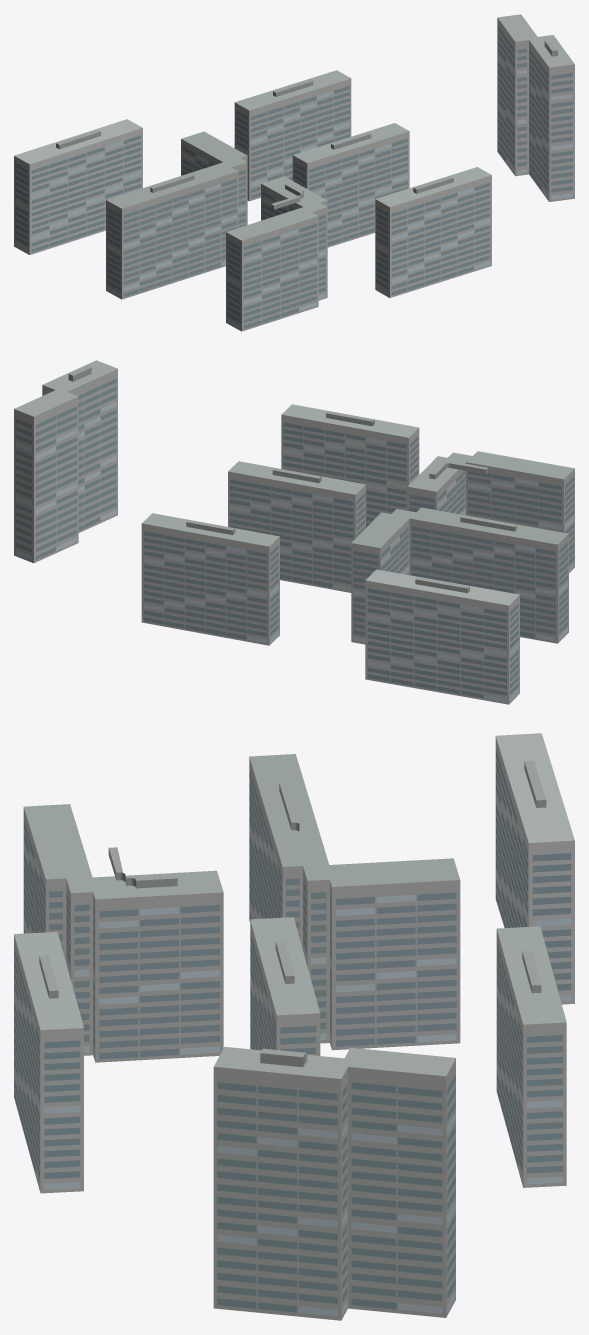
The model's file is apt-a13187302.glb.
The picture shows the model from 3 angles, top to bottom: view 1: azimuth 30°, elevation 25°; view 2: azimuth 150°, elevation 25°; view 3: azimuth 270°, elevation 25°; orthographic projection. The views are drawn at different scales.
Parts seen in each view (by area): view 1: apt-a13187302; view 2: apt-a13187302; view 3: apt-a13187302.
Boxes of the visible parts, <box> form: apt-a13187302: <box>14,14,574,331</box>; apt-a13187302: <box>14,360,574,704</box>; apt-a13187302: <box>14,733,574,1320</box>.
Size of the model in its own units: 218 by 60.35 by 122.
